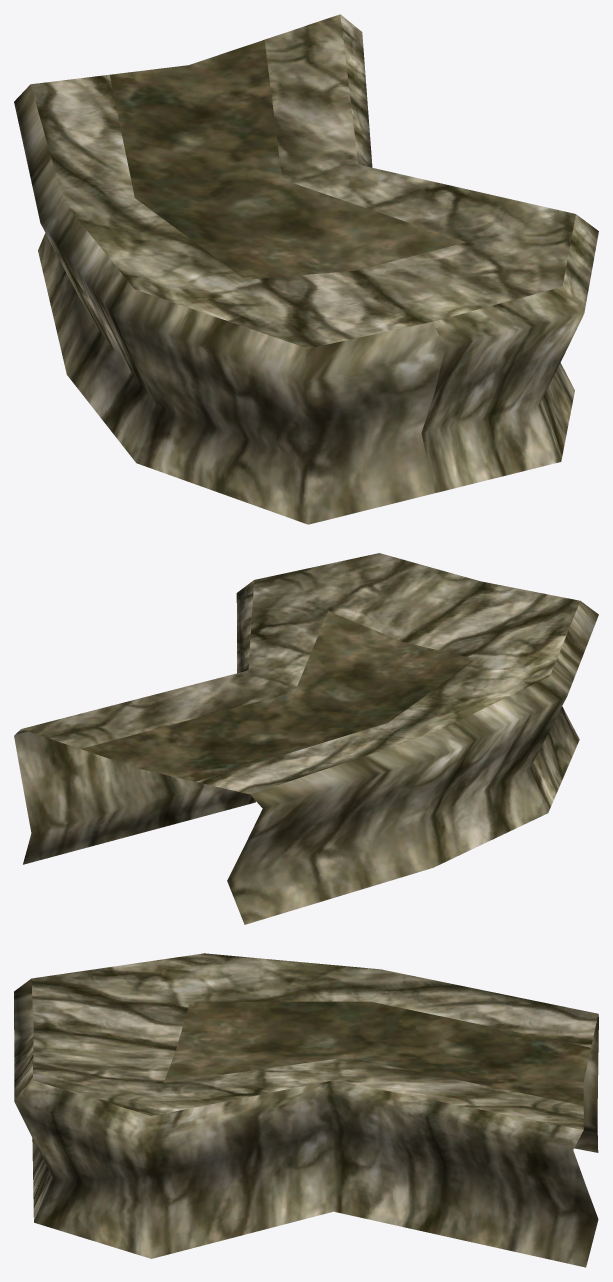
The model's file is CB_NEWPLAYSURFACE_CB_PLAYSURFACE155.fbx.
3 views of the same model, one above another, from view 1: azimuth 30°, elevation 25°; view 2: azimuth 150°, elevation 25°; view 3: azimuth 270°, elevation 25° (orthographic). The views are drawn at different scales.
Visible parts, largest first — view 1: CB_NEWPLAYSURFACE_CB_PLAYSURFACE155; view 2: CB_NEWPLAYSURFACE_CB_PLAYSURFACE155; view 3: CB_NEWPLAYSURFACE_CB_PLAYSURFACE155.
Boxes of the visible parts, x1,y1,x2,y2 form: CB_NEWPLAYSURFACE_CB_PLAYSURFACE155: (14,14,598,524); CB_NEWPLAYSURFACE_CB_PLAYSURFACE155: (14,553,598,924); CB_NEWPLAYSURFACE_CB_PLAYSURFACE155: (14,953,598,1267).
Bounding box in the file's own units: 87453 × 31420 × 114513.
3 materials, 3 textured.
